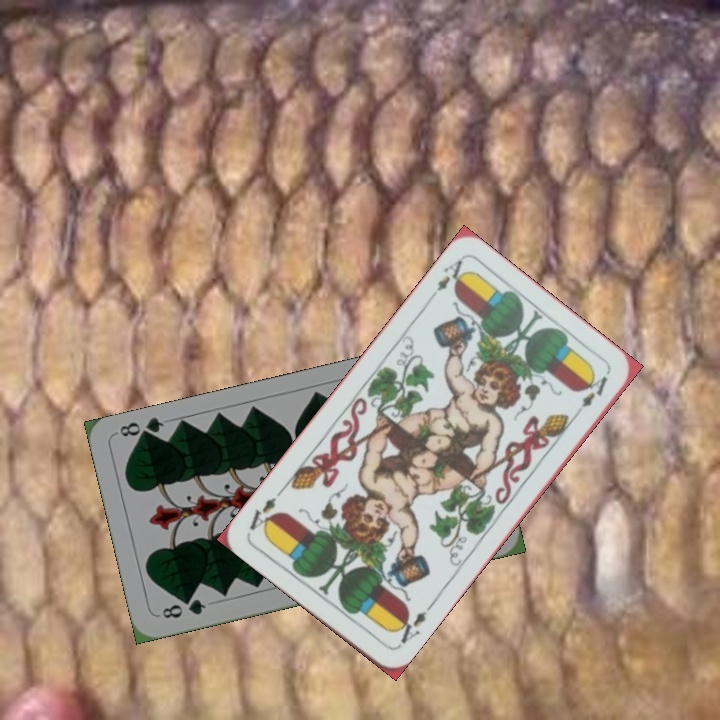EA: (423, 255, 470, 305), (390, 606, 430, 647)
G8: (158, 594, 209, 621)
